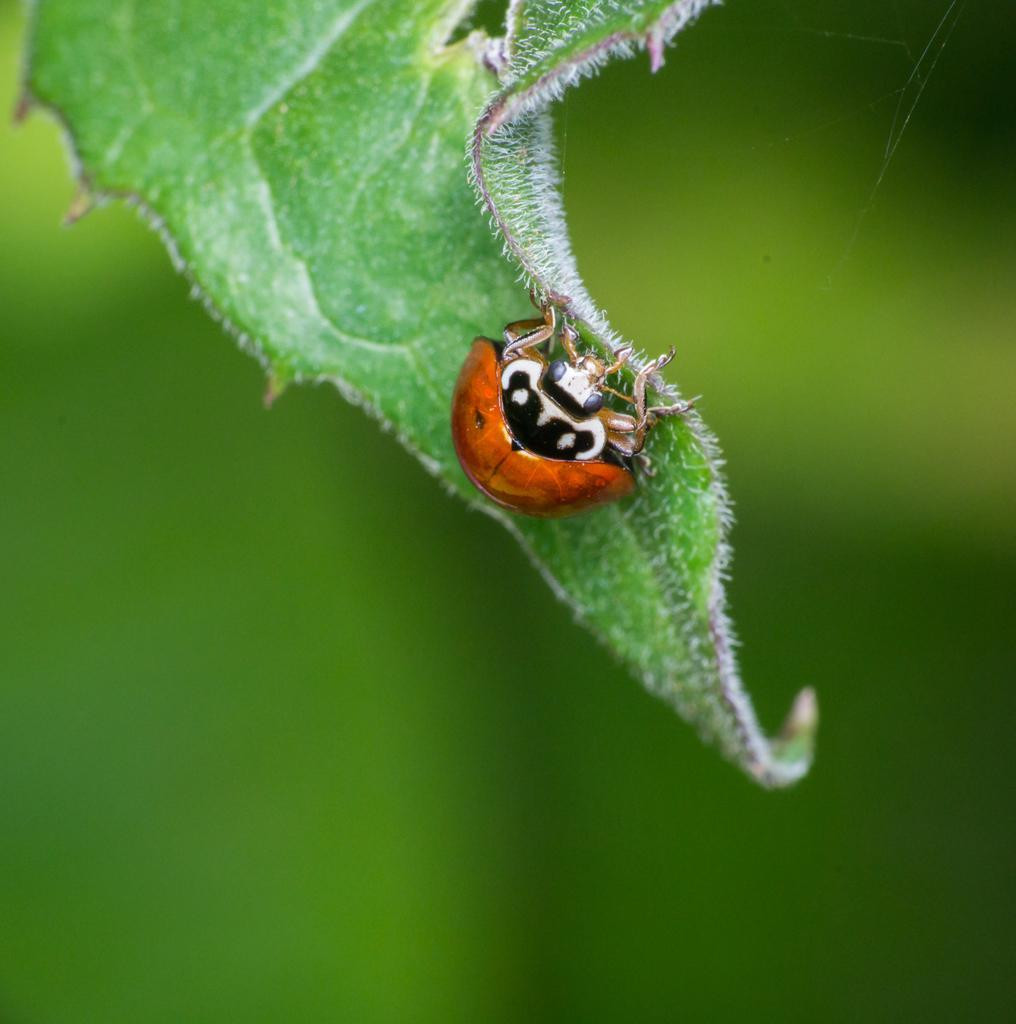ladybug: (451, 286, 694, 519)
